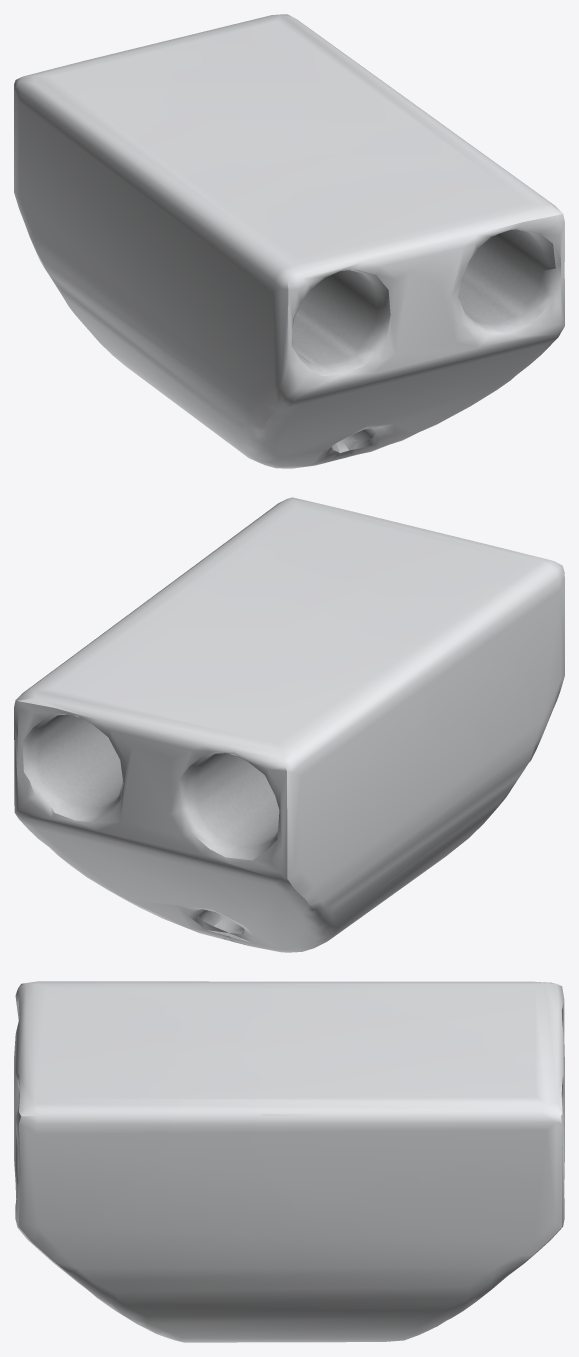
The model's file is right_finger4_lower.obj.
The picture shows the model from 3 angles, top to bottom: view 1: azimuth 30°, elevation 25°; view 2: azimuth 150°, elevation 25°; view 3: azimuth 270°, elevation 25°; orthographic projection.
Parts seen in each view (by area): view 1: right_finger4_lower; view 2: right_finger4_lower; view 3: right_finger4_lower.
Boxes of the visible parts, x1,y1,x2,y2 form: right_finger4_lower: (14,14,564,468); right_finger4_lower: (14,497,564,952); right_finger4_lower: (14,981,564,1342).
Bounding box in the file's own units: 0.0109 × 0.0104 × 0.0184.
1 material, 1 textured.
